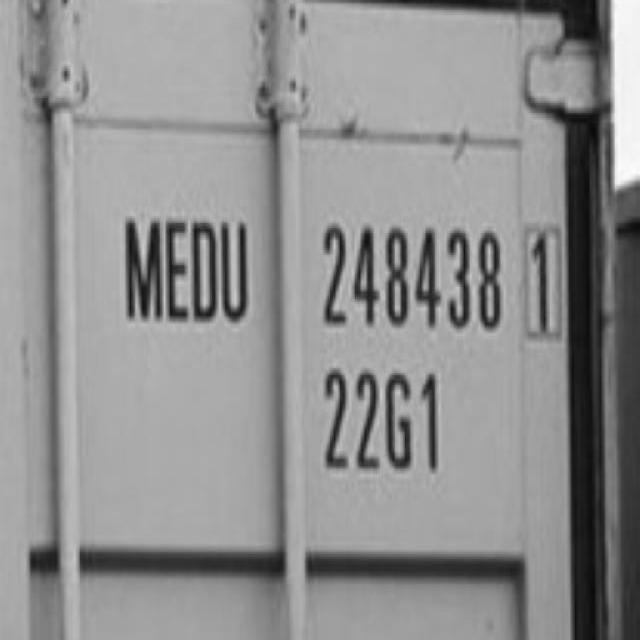dv: (518, 215, 566, 342)
owner: (117, 192, 258, 338)
serial: (314, 208, 502, 336)
size: (305, 354, 450, 490)
